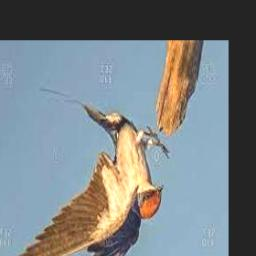Swallow: (10, 88, 169, 256)
